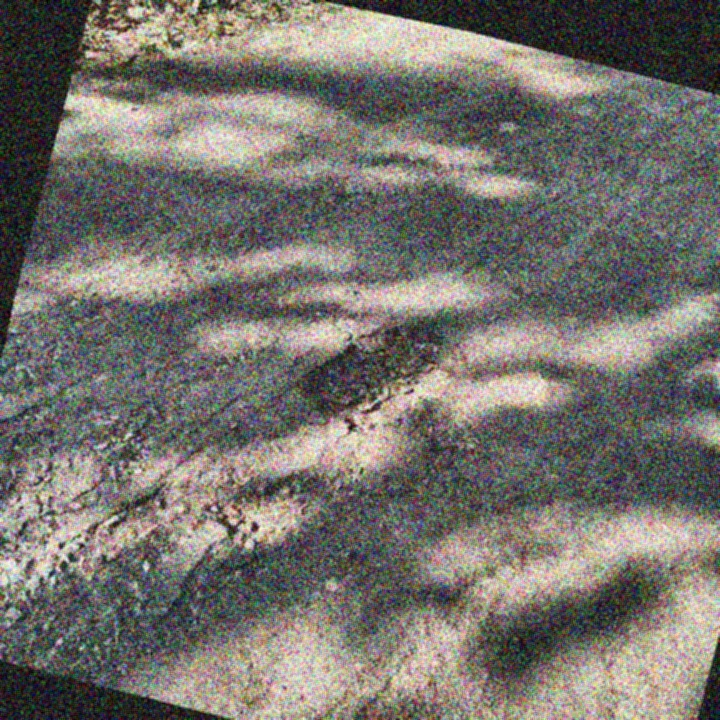pothole: (290, 295, 468, 456)
